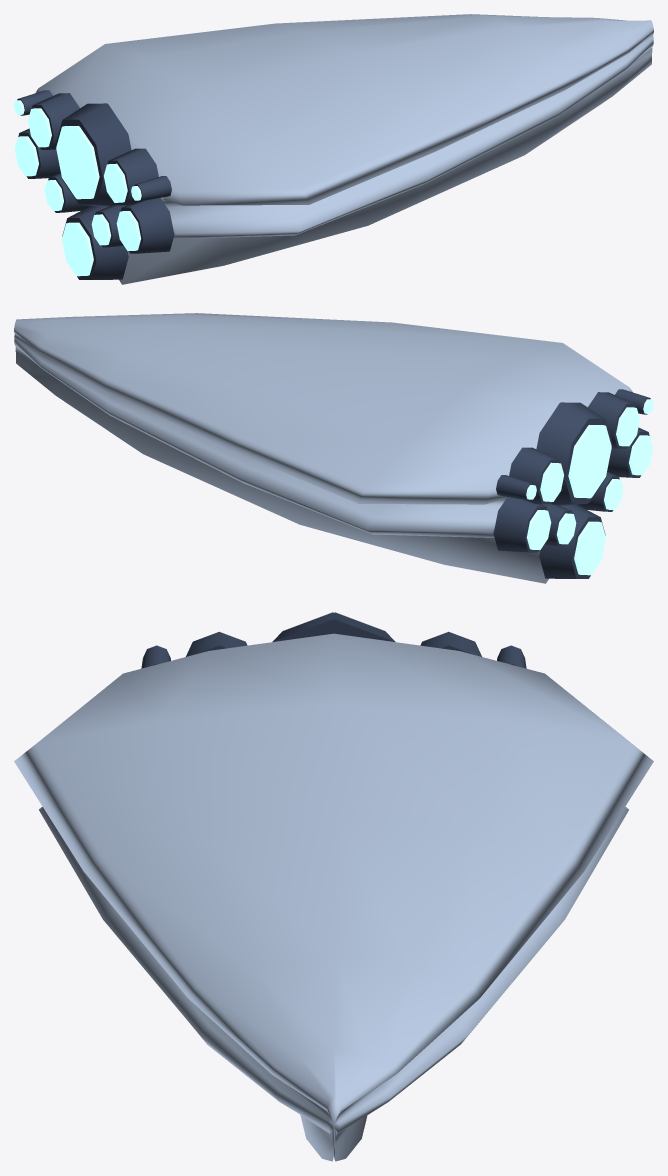
File: Aegis.glb
The picture shows the model from 3 angles, top to bottom: view 1: azimuth 30°, elevation 25°; view 2: azimuth 150°, elevation 25°; view 3: azimuth 270°, elevation 25°; orthographic projection. The views are drawn at different scales.
Visible parts, largest first — view 1: hull, dark, engine; view 2: hull, dark, engine; view 3: hull, dark.
Part boxes in pixels (bbox=[...]): hull: bbox=[35, 14, 653, 284]; dark: bbox=[17, 90, 174, 279]; engine: bbox=[14, 100, 141, 276]; hull: bbox=[14, 313, 632, 583]; dark: bbox=[493, 389, 650, 578]; engine: bbox=[526, 399, 653, 575]; hull: bbox=[14, 633, 653, 1161]; dark: bbox=[141, 612, 526, 668].
Size of the model in its own units: 12 by 3.51 by 7.64.
